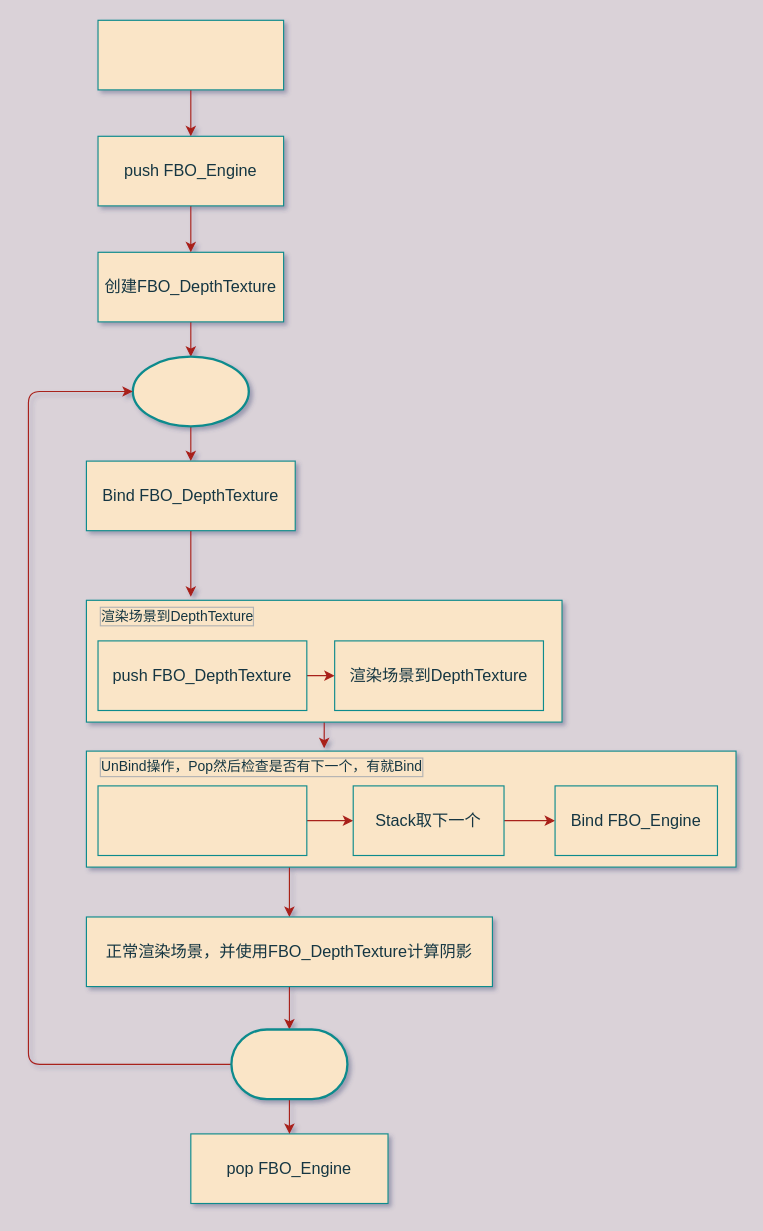
Some shapes in this 763 by 1231 pixel diagram are drawn without their labels. The shapes that lost their labels are listed below. From the top down, each one's box as (x1, y1, x2, y2) in pixels, then its label:
(97, 19, 284, 90): 创建FBO_Engine
(131, 355, 249, 427): Frame Begin
(97, 785, 307, 855): pop FBO_DepthTexture
(230, 1028, 348, 1100): Frame End
